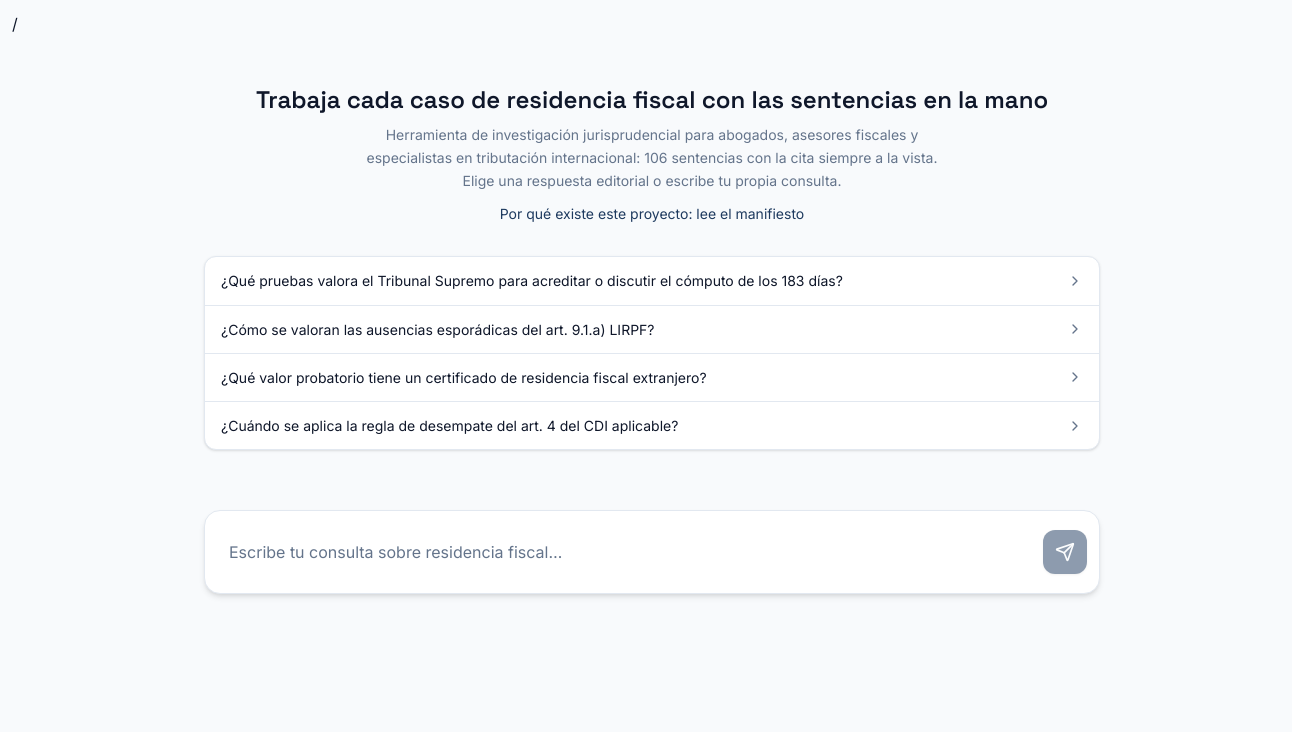
Test: ChatView › renderiza las fuentes citadas
Type "pregunta" into the text box labelled "consulta" at (626, 552), box [217,523,1035,581]
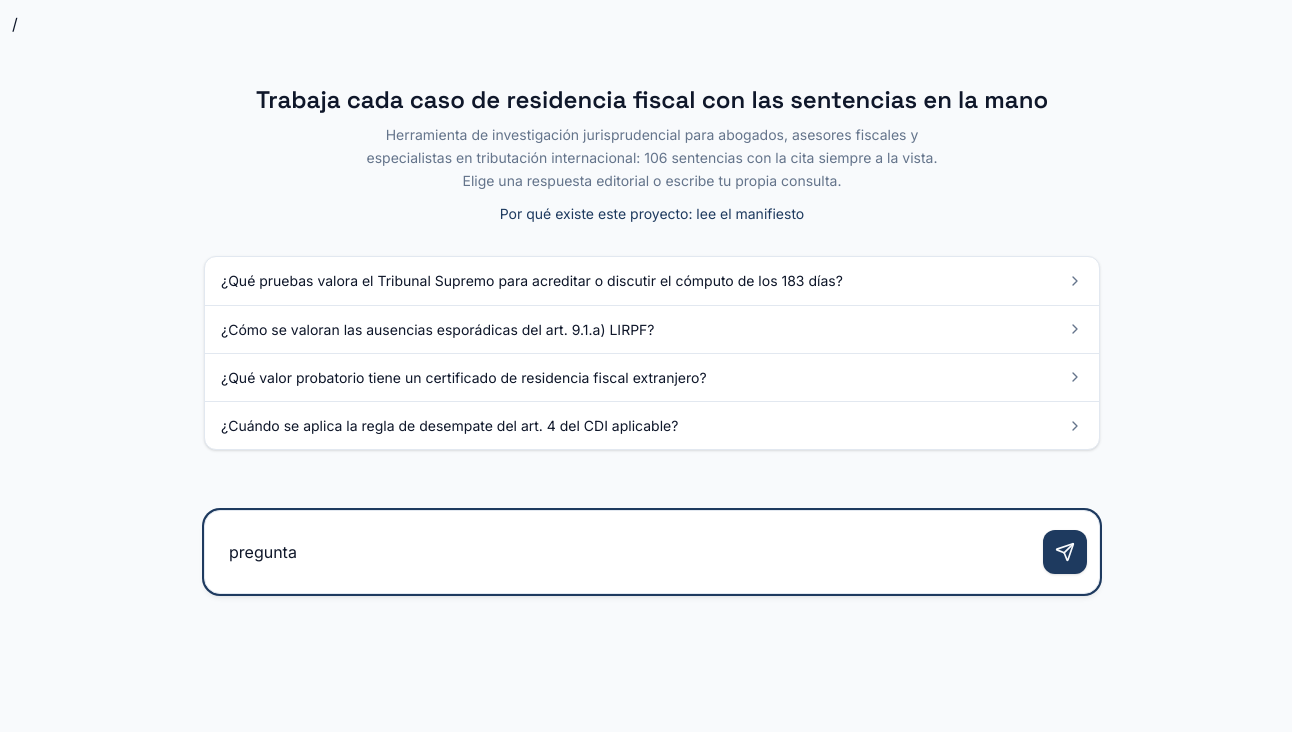
Click the button named "Enviar consulta" at (1065, 552), box [1043,530,1087,574]
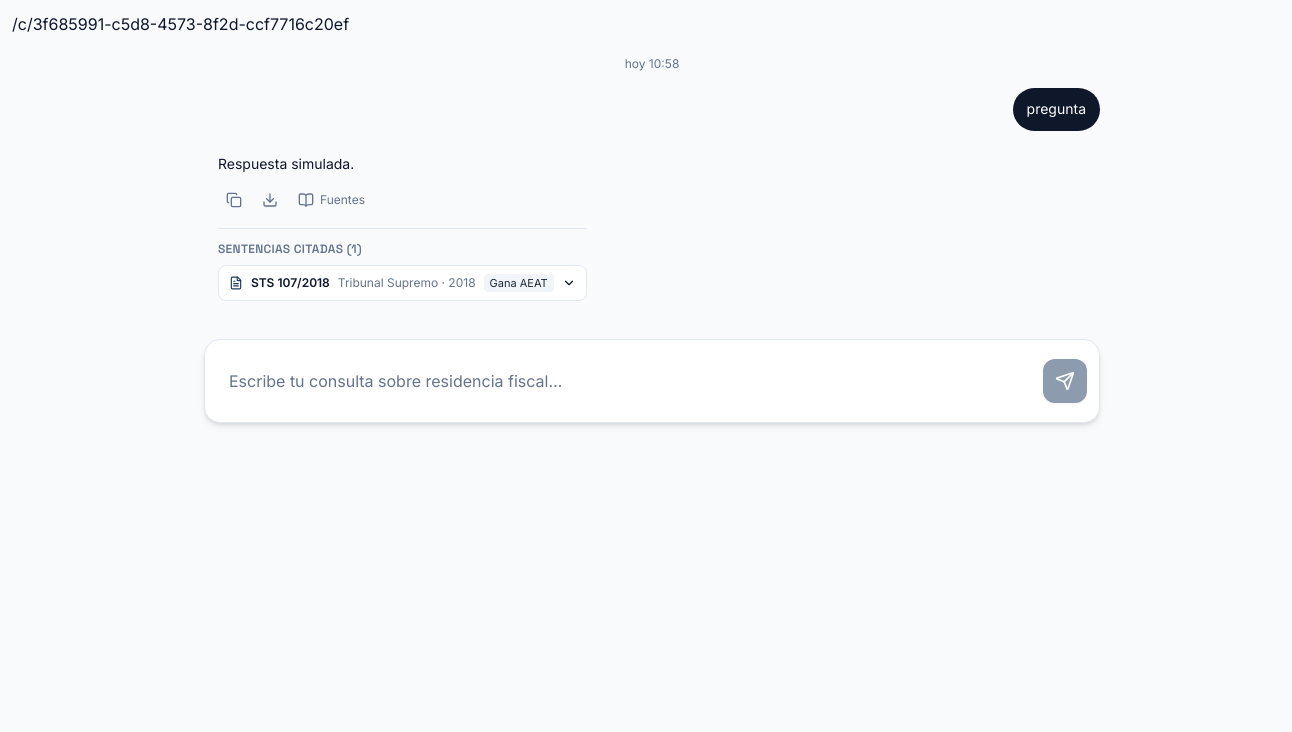
Check: the text "STS 107/2018" is shown, box [251,275,330,291]
Check: the element "Sentencias citadas" is shown, box [218,228,587,301]
